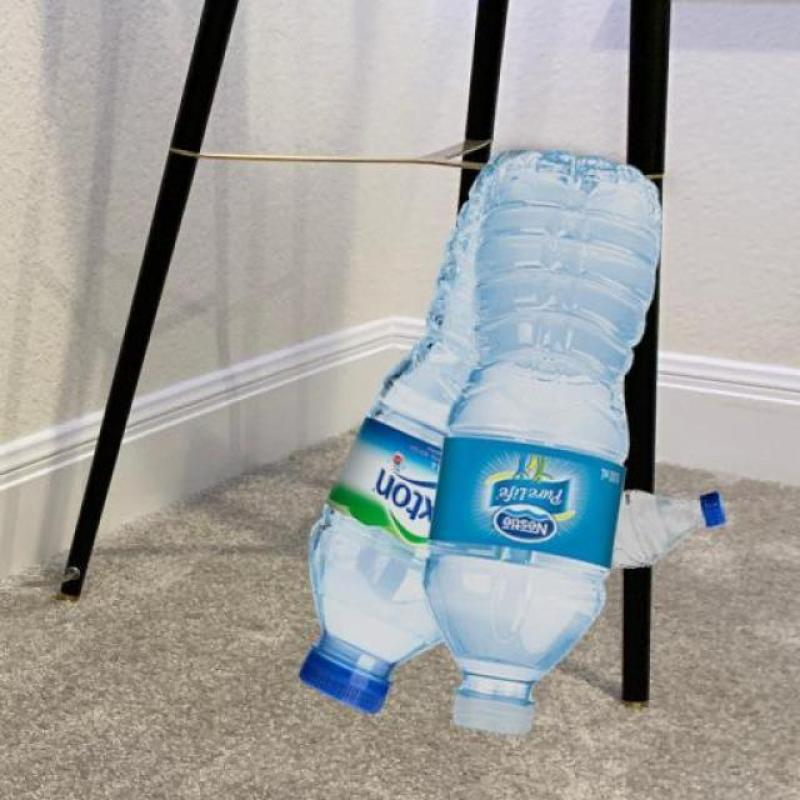botella: (425, 152, 664, 737), (298, 195, 477, 711), (611, 492, 727, 572)
